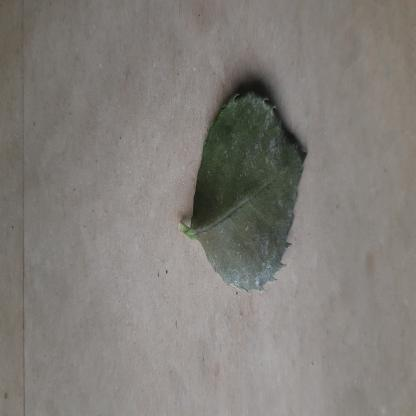black-spot: (192, 93, 308, 295)
